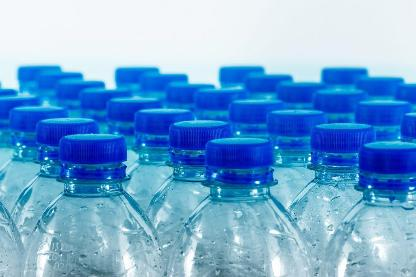Plastic Bottle: (22, 131, 172, 277), (170, 137, 318, 277), (322, 141, 416, 277)
